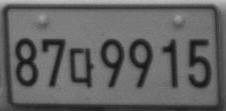1: (159, 38, 184, 88)
5: (187, 38, 212, 88)
7: (41, 37, 66, 87)
8: (13, 37, 38, 87)
9: (99, 37, 125, 88), (128, 37, 153, 87)
다: (68, 47, 94, 87)
